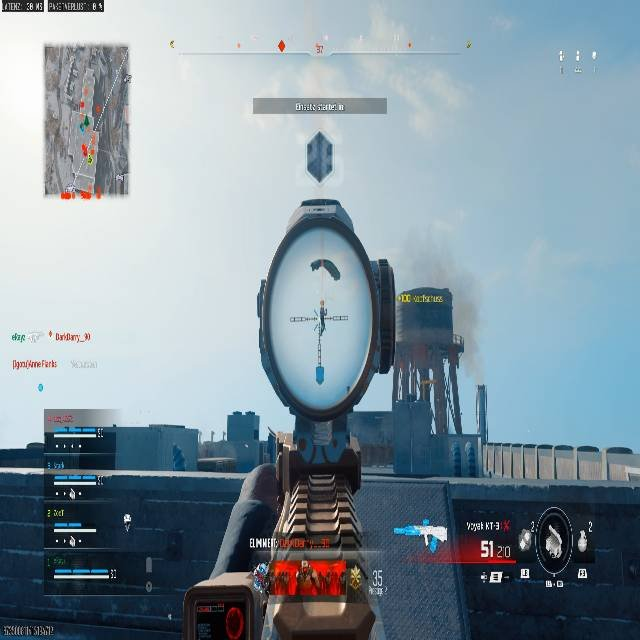player: (171, 445, 186, 471)
